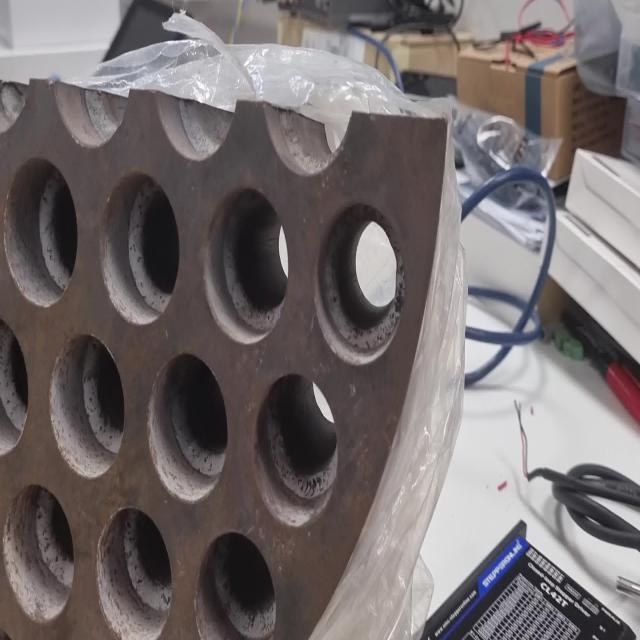Hole: (314, 200, 406, 365), (202, 187, 288, 345), (254, 371, 338, 527), (100, 171, 180, 326), (148, 352, 228, 504), (2, 156, 78, 308), (49, 332, 125, 479), (96, 506, 172, 640), (3, 483, 75, 623), (196, 530, 276, 640)
